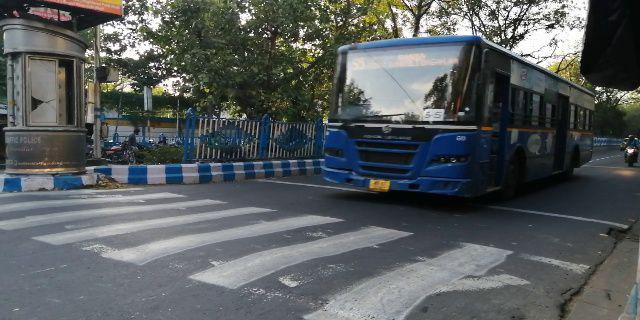Bus: (317, 41, 597, 210)
Motorbike: (616, 131, 640, 174)
